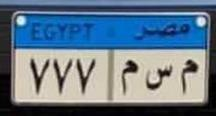7: (75, 56, 99, 95), (53, 57, 73, 99), (29, 55, 49, 97)
meem: (119, 57, 141, 99), (178, 55, 199, 98)
seen: (145, 62, 174, 95)
